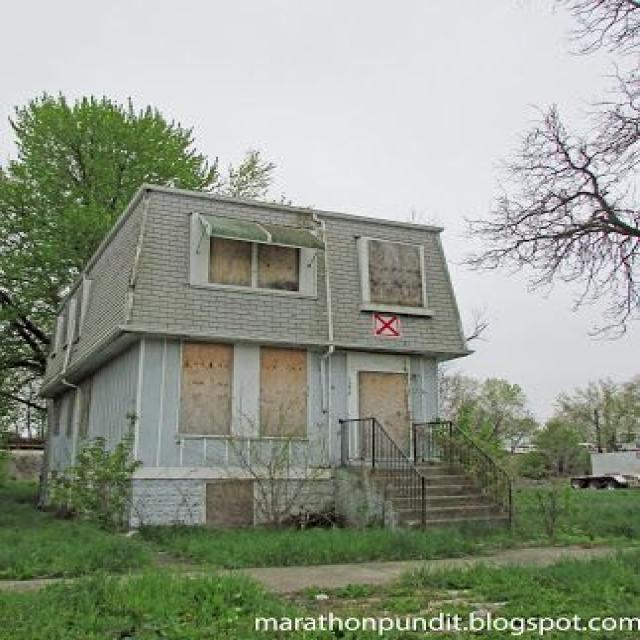House: (40, 143, 482, 532)
